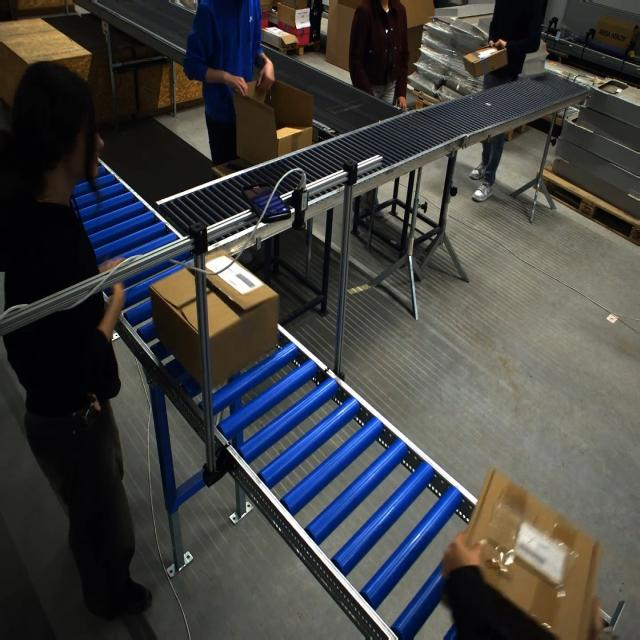box: (442, 468, 612, 640), (149, 255, 278, 391), (230, 77, 312, 168), (462, 43, 506, 77)
